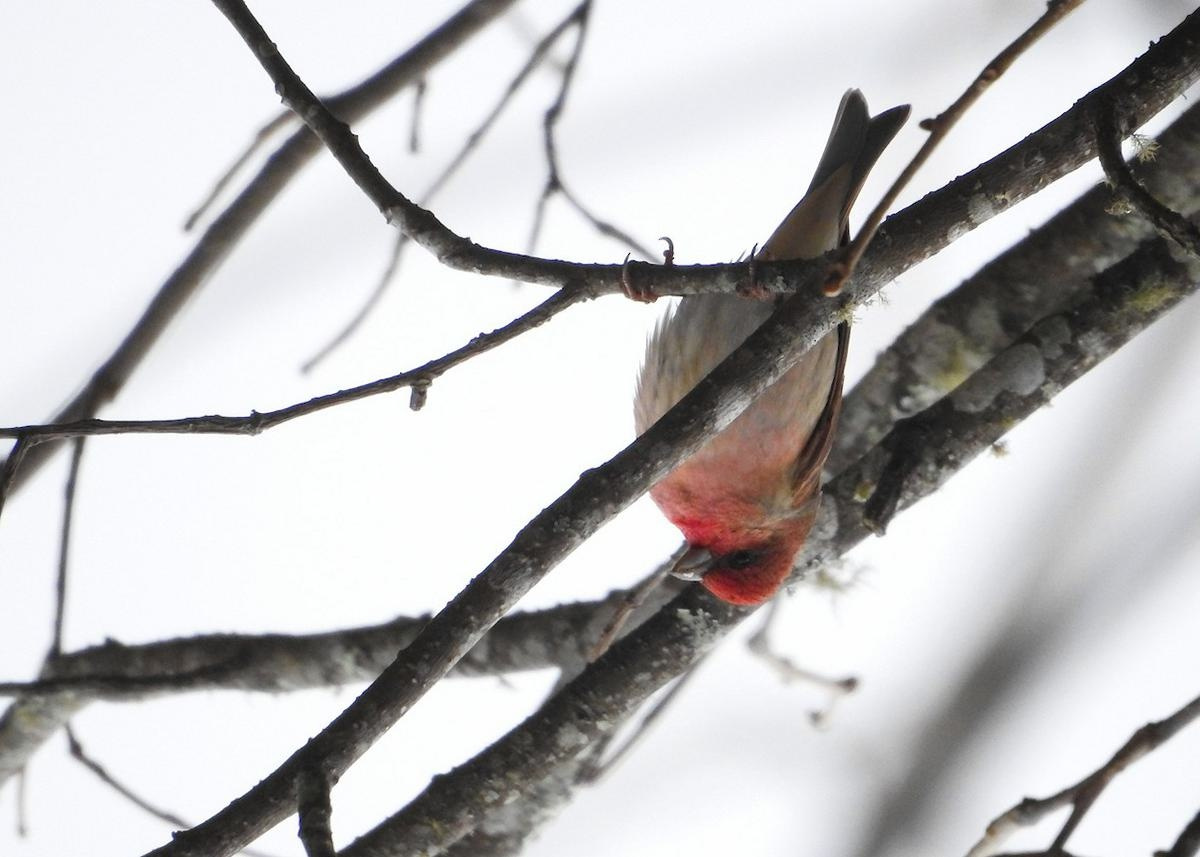rosefinch: (656, 151, 855, 620)
